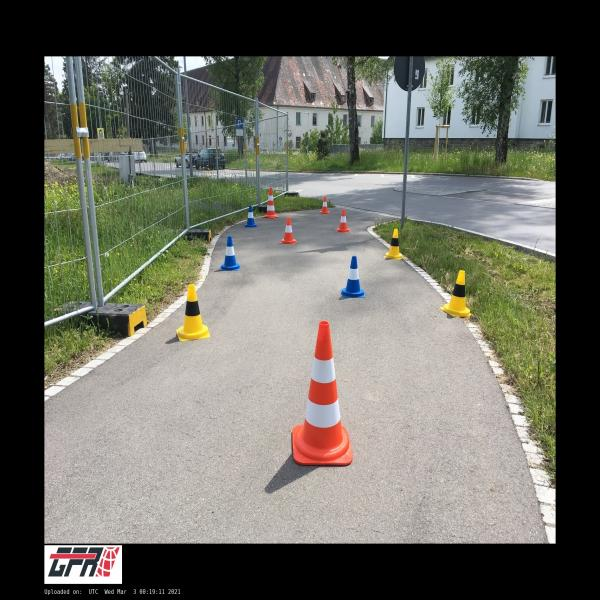blue_cone: (341, 256, 365, 298), (220, 236, 240, 271), (244, 206, 258, 227)
large_orange_cone: (292, 322, 353, 466), (263, 188, 279, 218)
orange_cone: (280, 217, 296, 244), (336, 209, 350, 233), (320, 197, 330, 214)
yellow_cone: (177, 284, 210, 340), (441, 270, 473, 317), (384, 228, 404, 260)
